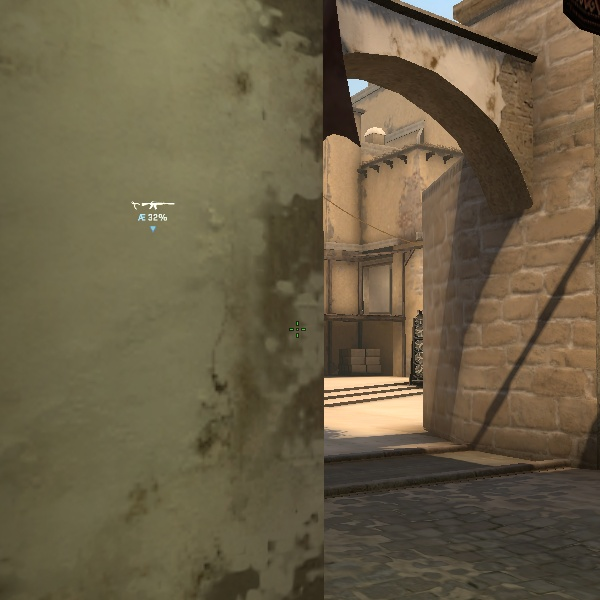ct_body: (409, 326, 427, 386)
